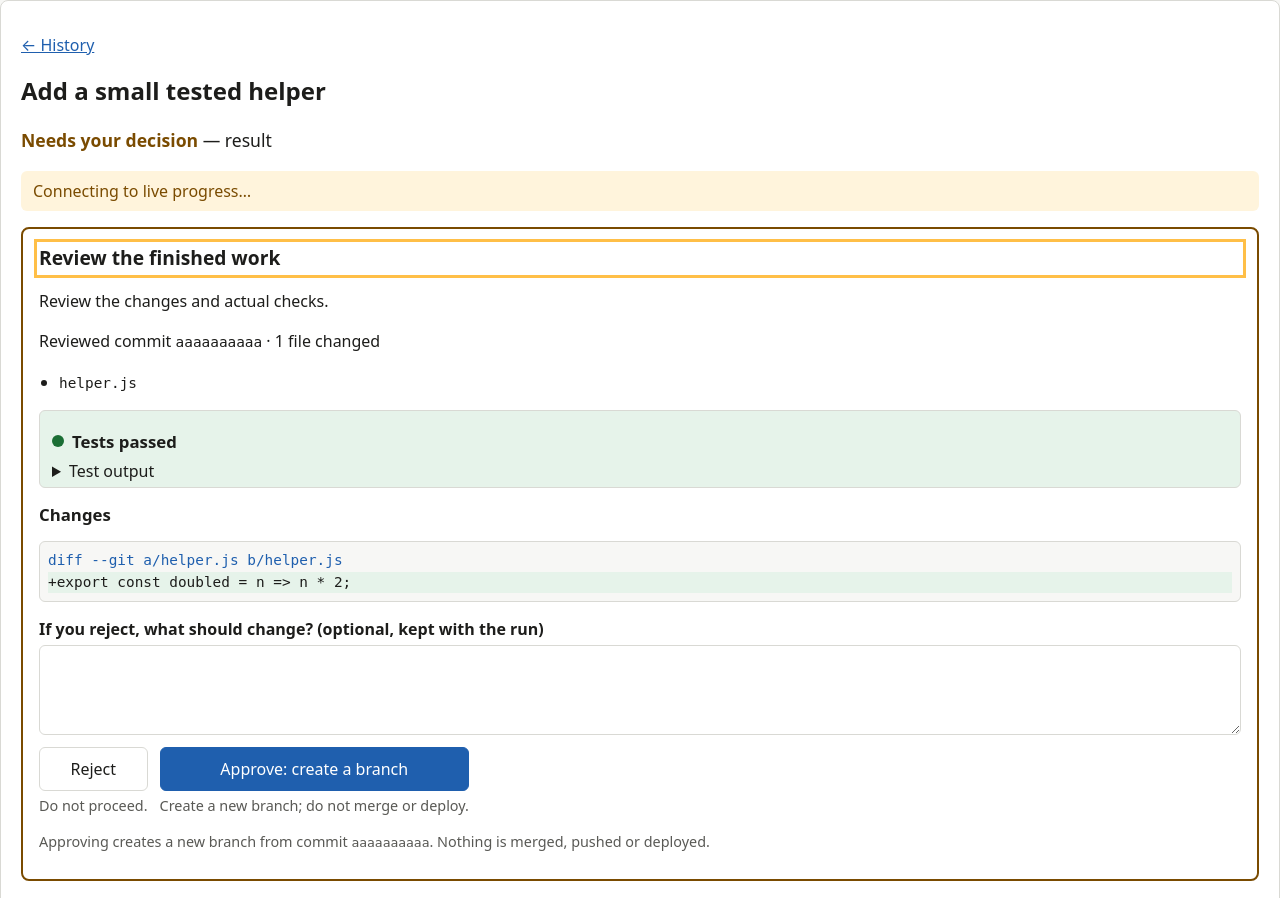
Scenario: after an approval is accepted, neither the old question nor Stop is offered while the snapshot is still the pre-answer one
This screenshot has width=1280, height=898.
Click the button "Approve: create a branch".
click(314, 769)  # box [160, 747, 469, 791]
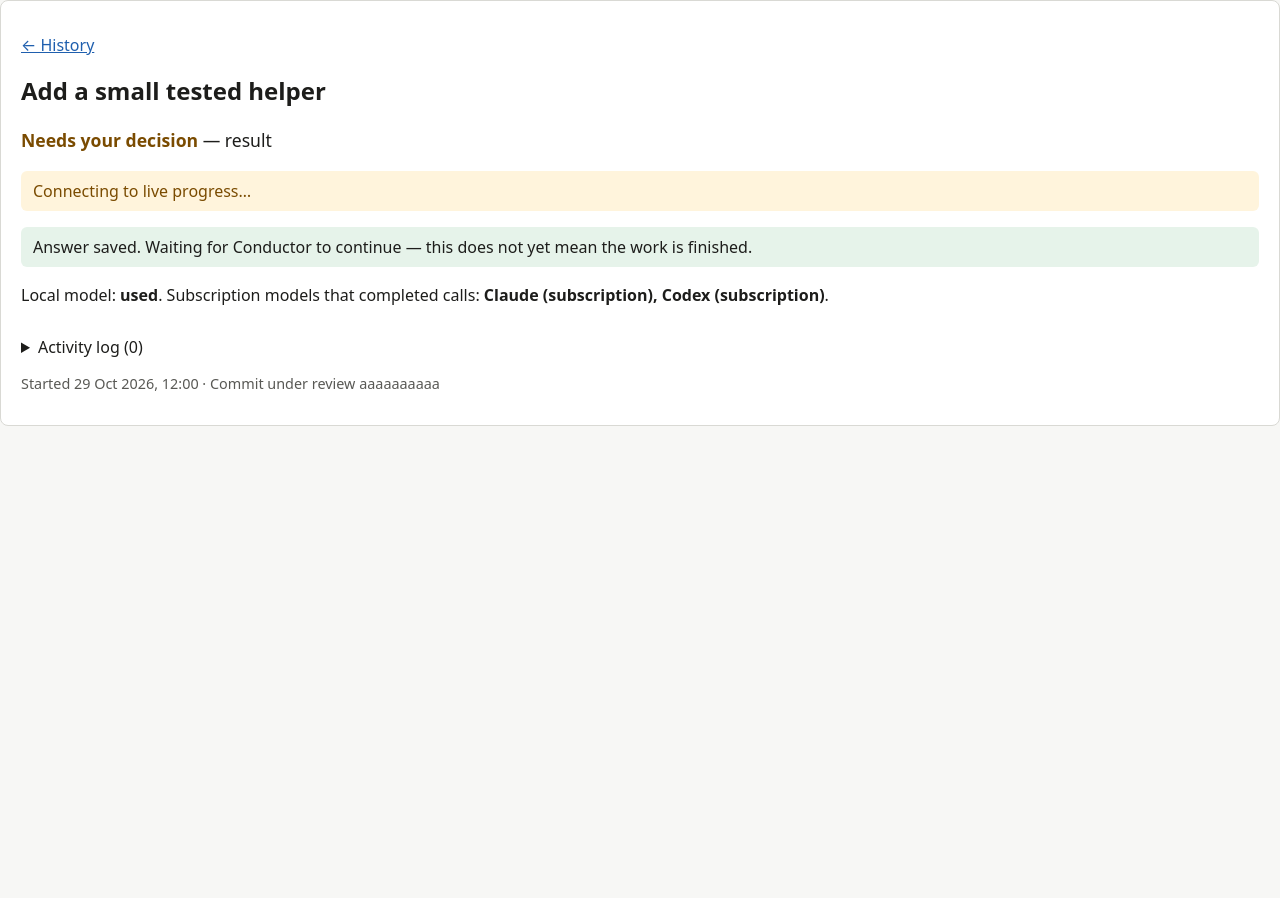
Now the text "Answer saved" is shown, box [33, 236, 752, 258]
Now the button "Approve: create a branch" is gone
